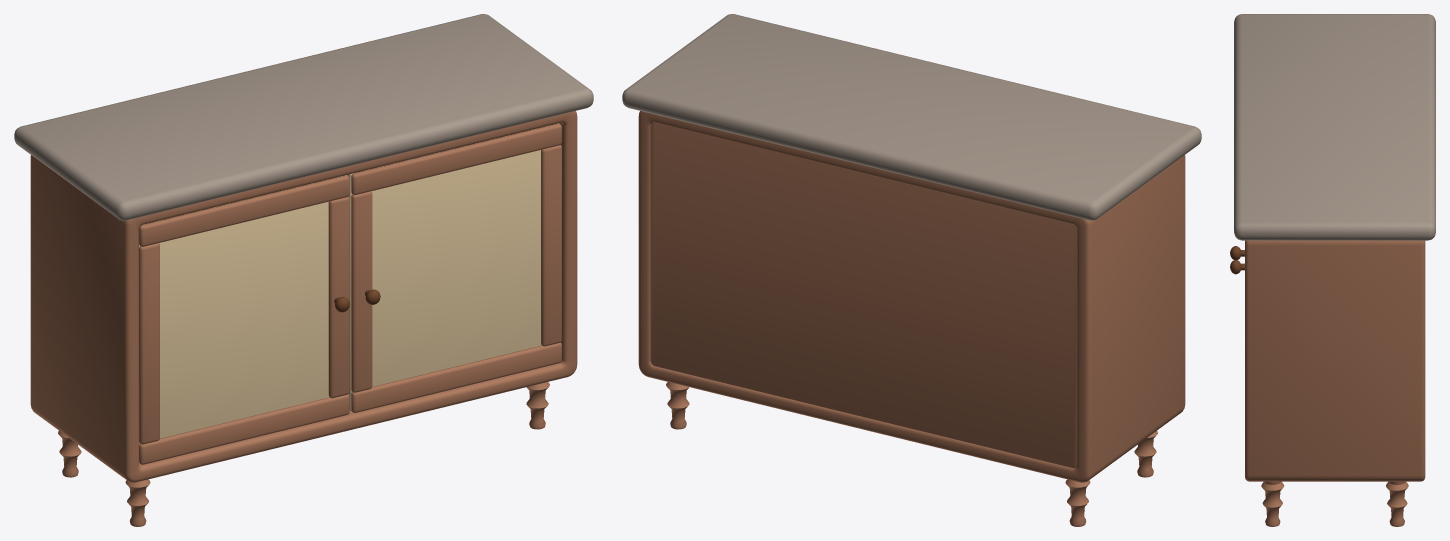
The model's file is aparador_2portas_madeira.glb.
3 views of the same model, side by side, from view 1: azimuth 30°, elevation 25°; view 2: azimuth 150°, elevation 25°; view 3: azimuth 270°, elevation 25° (orthographic). The views are drawn at different scales.
Parts seen in each view (by area): view 1: aparador_2portas_madeira, porta_2, porta_1; view 2: aparador_2portas_madeira; view 3: aparador_2portas_madeira.
Part boxes in pixels (left/top/right/bottom): aparador_2portas_madeira: left=14, top=14, right=593, bottom=526; porta_2: left=348, top=123, right=561, bottom=412; porta_1: left=139, top=175, right=349, bottom=464; aparador_2portas_madeira: left=622, top=14, right=1201, bottom=526; aparador_2portas_madeira: left=1234, top=14, right=1435, bottom=526.
Bounding box in the file's own units: 1.18 × 0.811 × 0.4796.
Materials: 1 (1 with a texture image).
